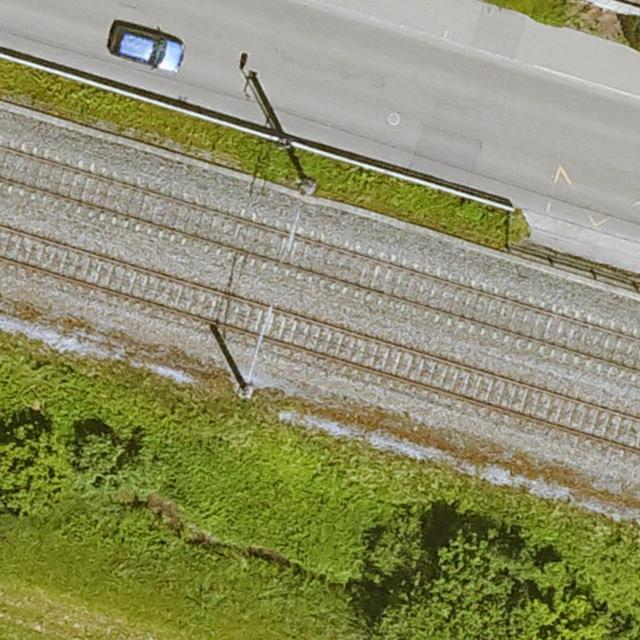tree: (433, 530, 589, 640), (0, 421, 73, 518), (76, 429, 126, 480), (375, 602, 439, 640)
